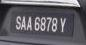6: (34, 16, 40, 32)
7: (46, 16, 52, 33)
8: (41, 16, 46, 31), (52, 17, 57, 32)
A: (21, 15, 26, 31), (27, 16, 32, 31)
S: (15, 15, 21, 30)
Y: (60, 17, 66, 33)
